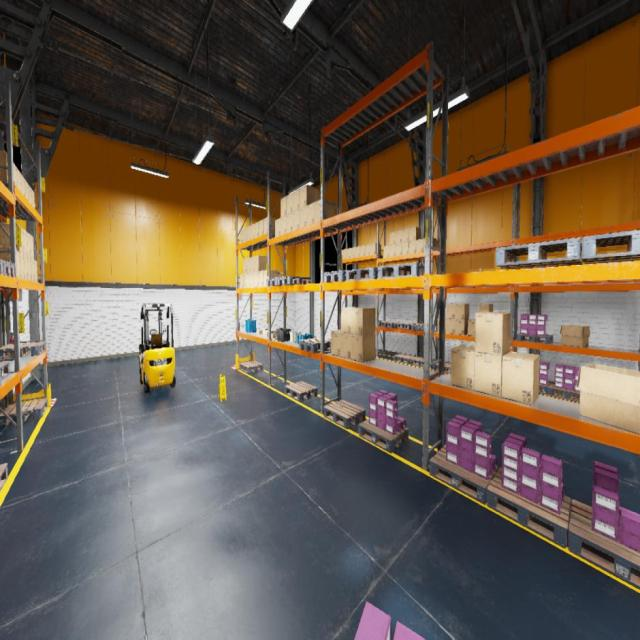box: (576, 363, 640, 434), (502, 351, 539, 405), (474, 351, 509, 397), (475, 312, 511, 355), (450, 345, 474, 390), (0, 223, 24, 255), (351, 334, 375, 362), (560, 325, 590, 347), (351, 308, 375, 335), (314, 198, 336, 222), (341, 307, 360, 333), (300, 184, 319, 208), (263, 270, 280, 286), (341, 333, 351, 359), (263, 217, 278, 234), (331, 330, 340, 356), (255, 255, 268, 272), (0, 150, 7, 181), (456, 319, 469, 335), (292, 188, 300, 212), (0, 246, 11, 263), (306, 202, 314, 225), (456, 304, 469, 318), (292, 209, 300, 231), (424, 238, 436, 252), (409, 227, 421, 241), (20, 253, 26, 279), (447, 304, 458, 318), (446, 318, 455, 334), (16, 250, 21, 278), (286, 192, 292, 215), (300, 206, 306, 228), (280, 196, 286, 218), (468, 318, 475, 336), (17, 167, 22, 192), (286, 213, 292, 233), (438, 318, 446, 333), (370, 243, 380, 255), (280, 216, 286, 235), (275, 218, 281, 237), (479, 304, 493, 312), (402, 241, 410, 255), (402, 228, 410, 242), (23, 229, 27, 256), (24, 254, 28, 280), (27, 232, 31, 258), (258, 219, 264, 236), (258, 270, 264, 287), (416, 239, 423, 253), (409, 240, 416, 254), (30, 259, 34, 282), (21, 174, 25, 196), (24, 179, 28, 201), (396, 230, 402, 244), (390, 232, 396, 245), (396, 243, 402, 256), (383, 245, 389, 258), (14, 162, 17, 186), (31, 190, 35, 208), (28, 256, 31, 280), (31, 235, 34, 259), (390, 244, 396, 256), (34, 260, 37, 283), (254, 221, 258, 238), (250, 223, 254, 240), (250, 272, 254, 288), (247, 272, 251, 288), (250, 256, 254, 272), (365, 244, 370, 256), (360, 245, 365, 257), (29, 185, 32, 204), (254, 272, 258, 286), (240, 274, 244, 288), (350, 247, 355, 258), (266, 326, 274, 332), (244, 258, 247, 274), (247, 226, 250, 241), (240, 229, 243, 244), (247, 258, 250, 273), (356, 246, 360, 257), (244, 228, 247, 242), (244, 274, 247, 288), (265, 331, 273, 336), (346, 248, 350, 258), (342, 250, 346, 260), (258, 329, 264, 334), (271, 333, 276, 338), (263, 330, 265, 334)
forklift: (140, 304, 176, 392)
pallets: (487, 468, 571, 548), (568, 500, 640, 590), (430, 444, 498, 504), (496, 238, 582, 269), (582, 230, 640, 264), (359, 418, 408, 453), (0, 398, 48, 427), (324, 400, 366, 428), (0, 342, 45, 359), (378, 263, 424, 278), (285, 381, 317, 402), (548, 382, 580, 402), (298, 337, 331, 353), (346, 268, 378, 281), (518, 333, 554, 344), (324, 270, 354, 282), (278, 276, 311, 286), (240, 361, 262, 373), (410, 357, 434, 367), (394, 354, 416, 364), (432, 362, 451, 373), (3, 260, 15, 277), (0, 462, 7, 490), (0, 361, 10, 380), (394, 322, 416, 330), (411, 324, 433, 332), (538, 382, 550, 395), (378, 322, 400, 328), (266, 278, 279, 286), (0, 258, 3, 274), (0, 370, 1, 385)
